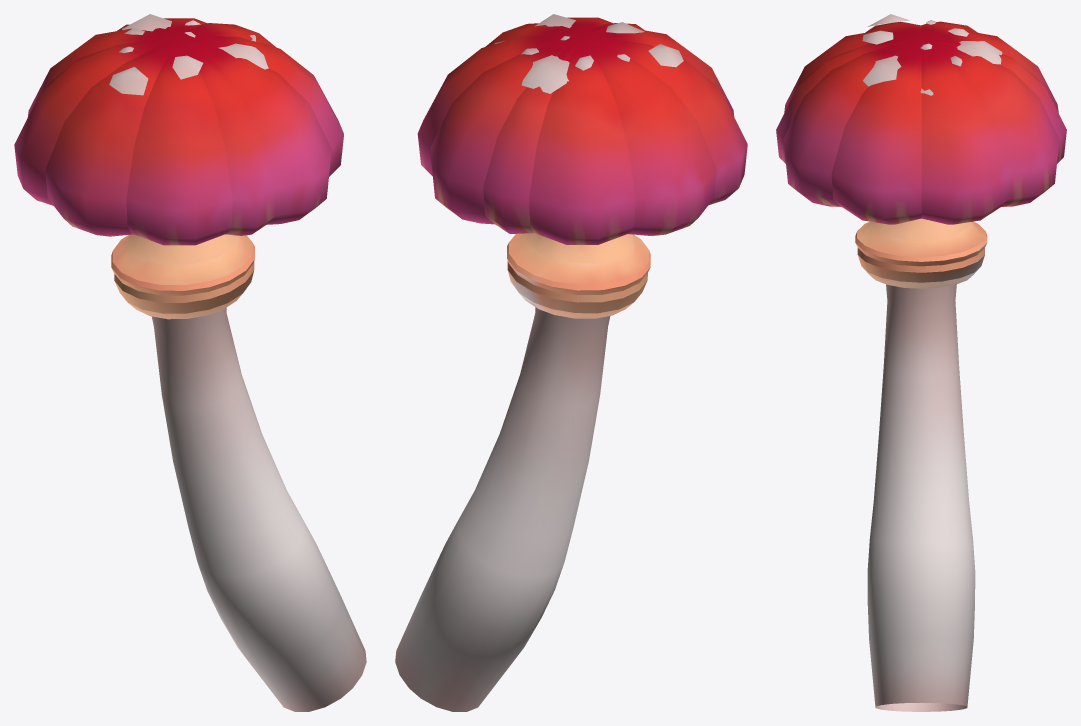
The model's file is Long_mushroom_2.fbx.
3 views of the same model, side by side, from view 1: azimuth 30°, elevation 25°; view 2: azimuth 150°, elevation 25°; view 3: azimuth 270°, elevation 25° (orthographic). The views are drawn at different scales.
Visible parts, largest first — view 1: Object012, Object013, Cylinder009; view 2: Object012, Object013, Cylinder009; view 3: Object013, Object012, Cylinder009.
Boxes of the visible parts, <box> form: Object012: <box>14,18,343,245</box>; Object013: <box>111,234,366,711</box>; Cylinder009: <box>109,14,268,95</box>; Object012: <box>417,17,747,244</box>; Object013: <box>395,233,650,711</box>; Cylinder009: <box>495,14,683,93</box>; Object013: <box>855,218,987,711</box>; Object012: <box>776,21,1066,224</box>; Cylinder009: <box>862,14,1002,95</box>.
Bounding box in the file's own units: 3.54 × 7.39 × 3.1.
